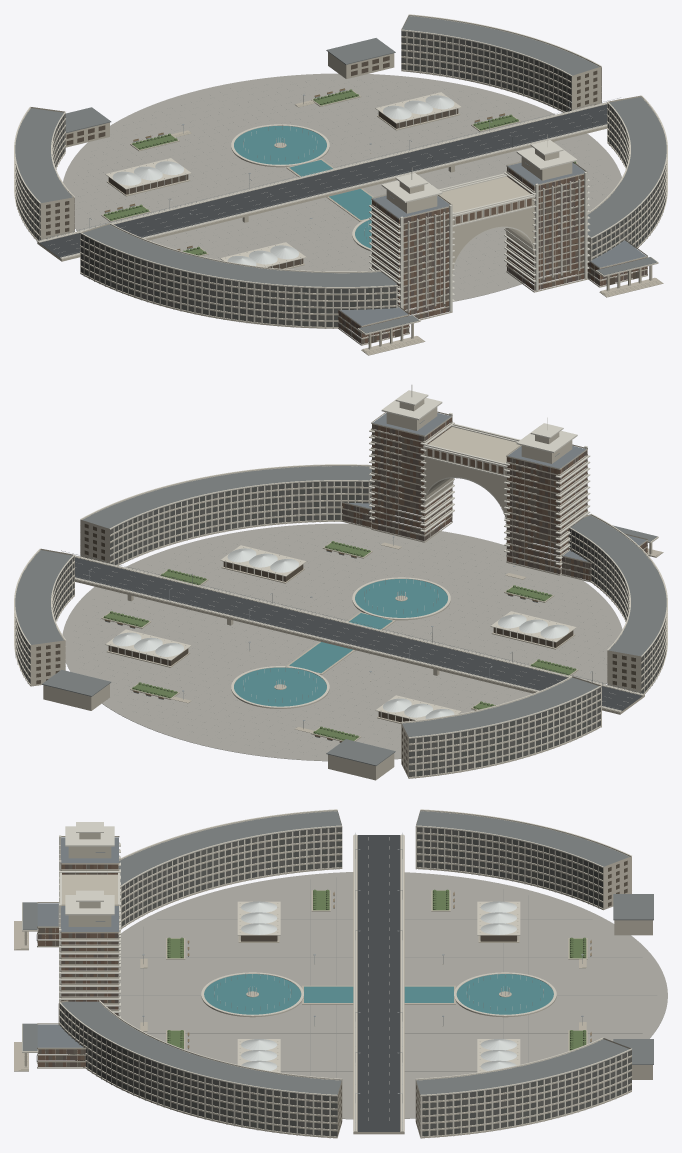
The model's file is arch-r4.glb.
3 views of the same model, one above another, from view 1: azimuth 30°, elevation 25°; view 2: azimuth 150°, elevation 25°; view 3: azimuth 270°, elevation 25° (orthographic). The views are drawn at different scales.
Visible parts, largest first — view 1: Court paving, Court cornice, Court roof, Court limestone, Portal Arch frame, Court asphalt, Portal Arch stone, Court window3, Court window0, Court window2, Court window1, Court water (+9 smaller); view 2: Court paving, Court cornice, Court roof, Court limestone, Portal Arch stone, Court asphalt, Portal Arch frame, Court water, Court window3, Court window0, Court window1, Court window2 (+9 smaller); view 3: Court paving, Court cornice, Court roof, Court limestone, Court asphalt, Court water, Court window3, Court window0, Court window2, Court window1, Portal Arch frame, Portal Arch stone (+10 smaller).
Boxes of the visible parts, x1,y1,x2,y2 form: Court paving: (63, 73, 621, 306); Court cornice: (14, 14, 667, 349); Court roof: (15, 16, 666, 333); Court limestone: (14, 15, 667, 355); Portal Arch frame: (343, 134, 647, 343); Court asphalt: (39, 104, 607, 257); Portal Arch stone: (338, 149, 647, 345); Court window3: (15, 31, 666, 326); Court window0: (15, 32, 666, 326); Court window2: (15, 31, 666, 326); Court window1: (15, 33, 666, 326); Court water: (234, 126, 372, 248); Court paving: (62, 523, 622, 761); Court cornice: (14, 464, 667, 778); Court roof: (15, 466, 666, 765); Court limestone: (14, 466, 667, 780); Portal Arch stone: (342, 399, 647, 582); Court asphalt: (75, 557, 642, 710); Portal Arch frame: (342, 385, 647, 580); Court water: (234, 579, 447, 706); Court window3: (15, 481, 666, 776); Court window0: (15, 481, 666, 776); Court window1: (16, 481, 666, 775); Court window2: (16, 481, 666, 774); Court paving: (119, 872, 667, 1119); Court cornice: (22, 809, 631, 1138); Court roof: (22, 811, 653, 1094); Court limestone: (14, 811, 652, 1138); Court asphalt: (357, 835, 400, 1131); Court water: (204, 974, 553, 1014); Court window3: (59, 827, 631, 1135); Court window0: (59, 827, 631, 1136); Court window2: (59, 827, 631, 1135); Court window1: (59, 828, 631, 1135); Portal Arch frame: (37, 822, 120, 1066); Portal Arch stone: (37, 833, 119, 1068).
Bounding box in the file's own units: 328 × 76.5 × 306.
